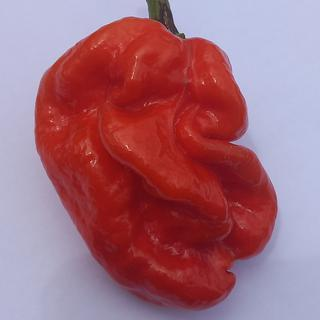Grade-A: (28, 16, 283, 312)
